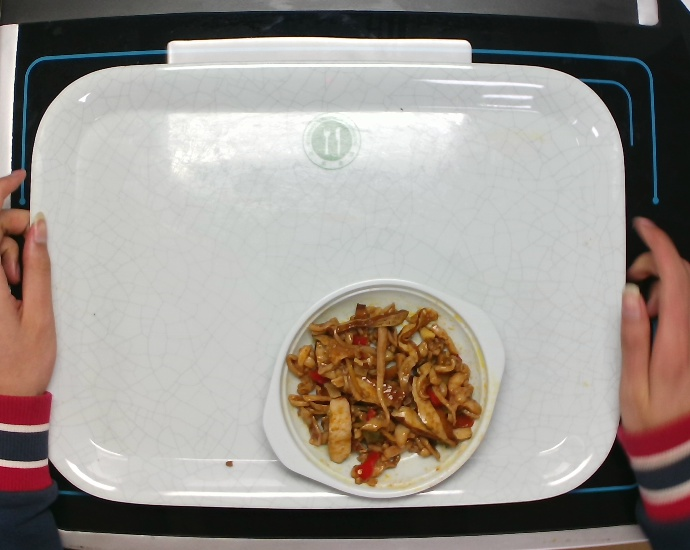JYsf-Shuang_Er_Pan: (259, 276, 508, 501)
